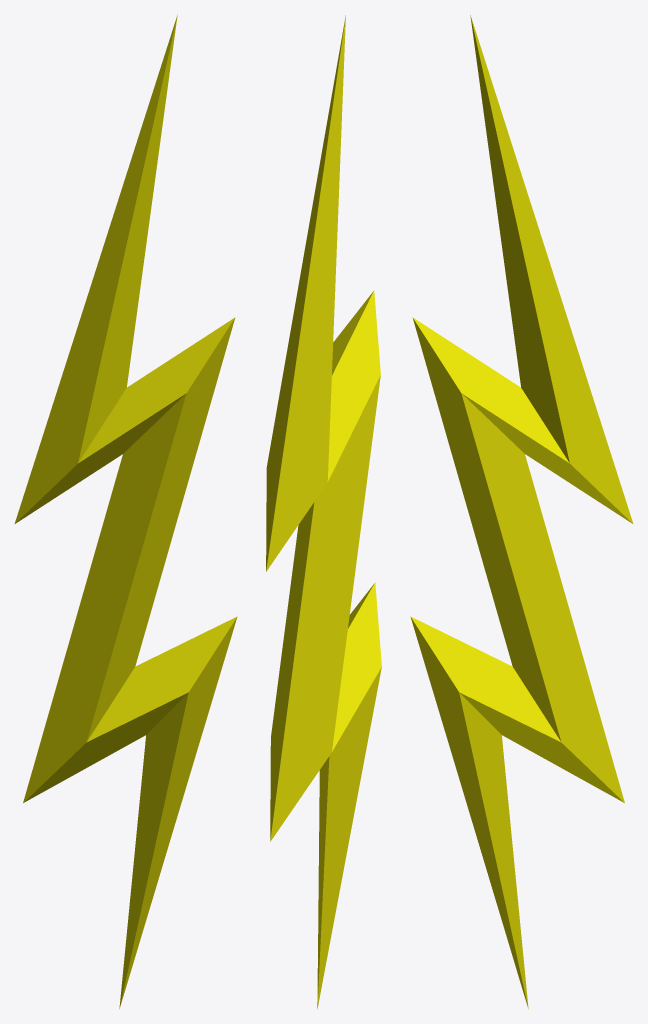
The model's file is LightningBolt.fbx.
3 views of the same model, side by side, from view 1: azimuth 90°, elevation 25°; view 2: azimuth 150°, elevation 25°; view 3: azimuth 270°, elevation 25° (orthographic). The views are drawn at different scales.
Visible parts, largest first — view 1: Cube; view 2: Cube; view 3: Cube.
Boxes of the visible parts, x1,y1,x2,y2 form: Cube: [14, 15, 237, 1008]; Cube: [266, 15, 381, 1009]; Cube: [410, 15, 633, 1008].
Bounding box in the file's own units: 26.15 × 399 × 81.09.
